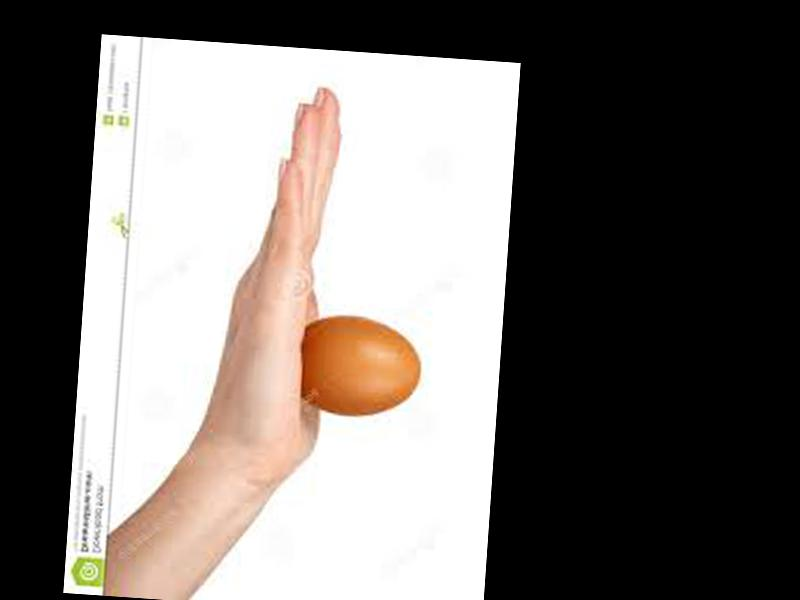Eggs: (294, 312, 423, 418)
